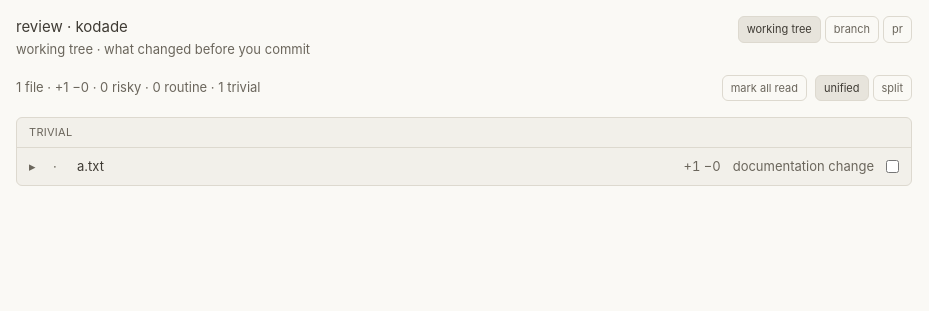
ReviewPane › expands a file row and renders its themed diff
Click the button "▸ · a.txt +1 −0 documentation change" at (702, 166), box [29,158,874,175]
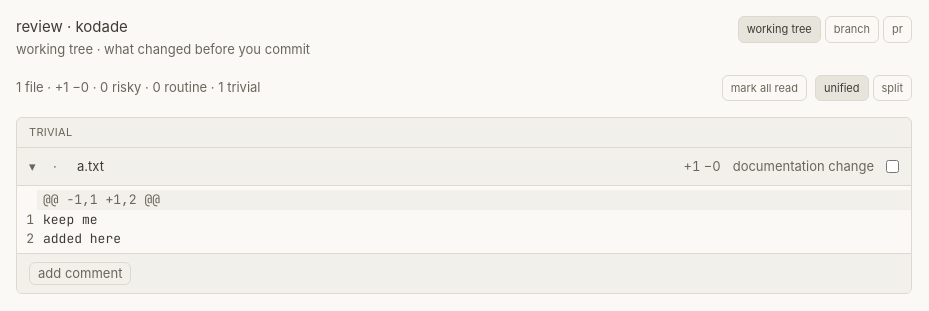
Expected: the element with class "cm-editor" is shown, [17,186,911,253]
Expected: the text "added here" is shown, [43,230,121,247]
